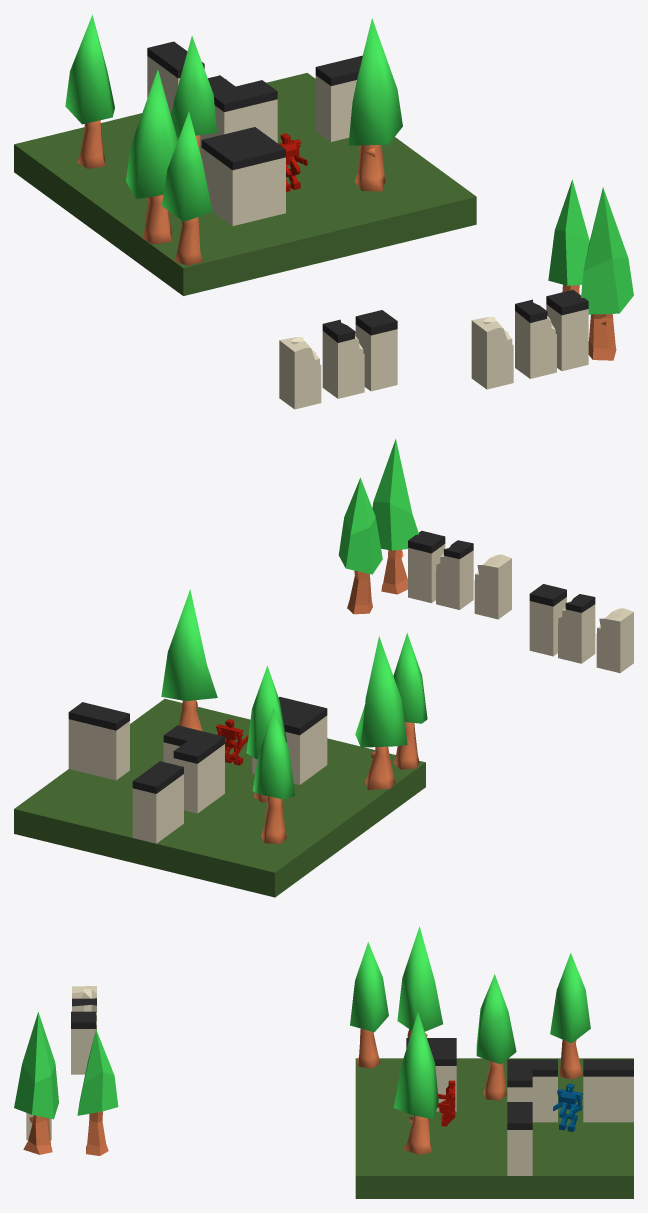
Rendered from Arena_1.glb.
The picture shows the model from 3 angles, top to bottom: view 1: azimuth 30°, elevation 25°; view 2: azimuth 150°, elevation 25°; view 3: azimuth 270°, elevation 25°; orthographic projection. The views are drawn at different scales.
Visible parts, largest first — view 1: Tree.011, Tree.002, Tree.006, Tree.010, Tree.009, Wall.011, Wall.018, Tree.001, Wall.003, Wall.013, Wall.006, Tree.005 (+30 smaller); view 2: Tree.006, Tree.011, Tree.002, Tree.001, Tree.010, Tree.009, Wall.004, Wall.003, Wall.018, Wall.013, Wall.006, Wall.012 (+29 smaller); view 3: Tree.002, Tree.011, Tree.005, Tree.010, Tree.009, Tree.006, Tree.001, Wall.005, Wall.015, Wall.004, Wall.001, Wall.006 (+15 smaller).
Boxes of the visible parts, box(x1,y1,x2,y2) form: Tree.011: box(348, 18, 402, 191); Tree.002: box(581, 187, 633, 360); Tree.006: box(126, 70, 177, 244); Tree.010: box(65, 14, 114, 168); Tree.009: box(162, 112, 212, 265); Wall.011: box(217, 144, 259, 226); Wall.018: box(322, 319, 364, 398); Tree.001: box(548, 179, 589, 294); Wall.003: box(315, 60, 357, 141); Wall.013: box(515, 299, 556, 378); Wall.006: box(355, 310, 397, 391); Tree.005: box(171, 36, 216, 156); Tree.006: box(355, 636, 407, 789); Tree.011: box(161, 589, 217, 731); Tree.002: box(372, 439, 418, 594); Tree.001: box(338, 477, 382, 614); Tree.010: box(252, 707, 295, 843); Tree.009: box(393, 633, 427, 769); Wall.004: box(132, 771, 169, 843); Wall.003: box(92, 708, 129, 780); Wall.018: box(558, 594, 595, 663); Wall.013: box(436, 540, 473, 609); Wall.006: box(529, 584, 566, 656); Wall.012: box(596, 608, 633, 672); Tree.002: box(14, 1012, 58, 1154); Tree.011: box(393, 1012, 438, 1154); Tree.005: box(476, 974, 516, 1100); Tree.010: box(550, 953, 590, 1079); Tree.009: box(350, 942, 388, 1068); Tree.006: box(397, 926, 442, 1037); Tree.001: box(77, 1029, 118, 1155); Wall.005: box(583, 1059, 608, 1122); Wall.015: box(507, 1112, 532, 1175); Wall.004: box(608, 1059, 633, 1122); Wall.001: box(532, 1059, 557, 1122); Wall.006: box(71, 1011, 96, 1074).
Size of the model in its own units: 26.59 by 14 by 48.99.
